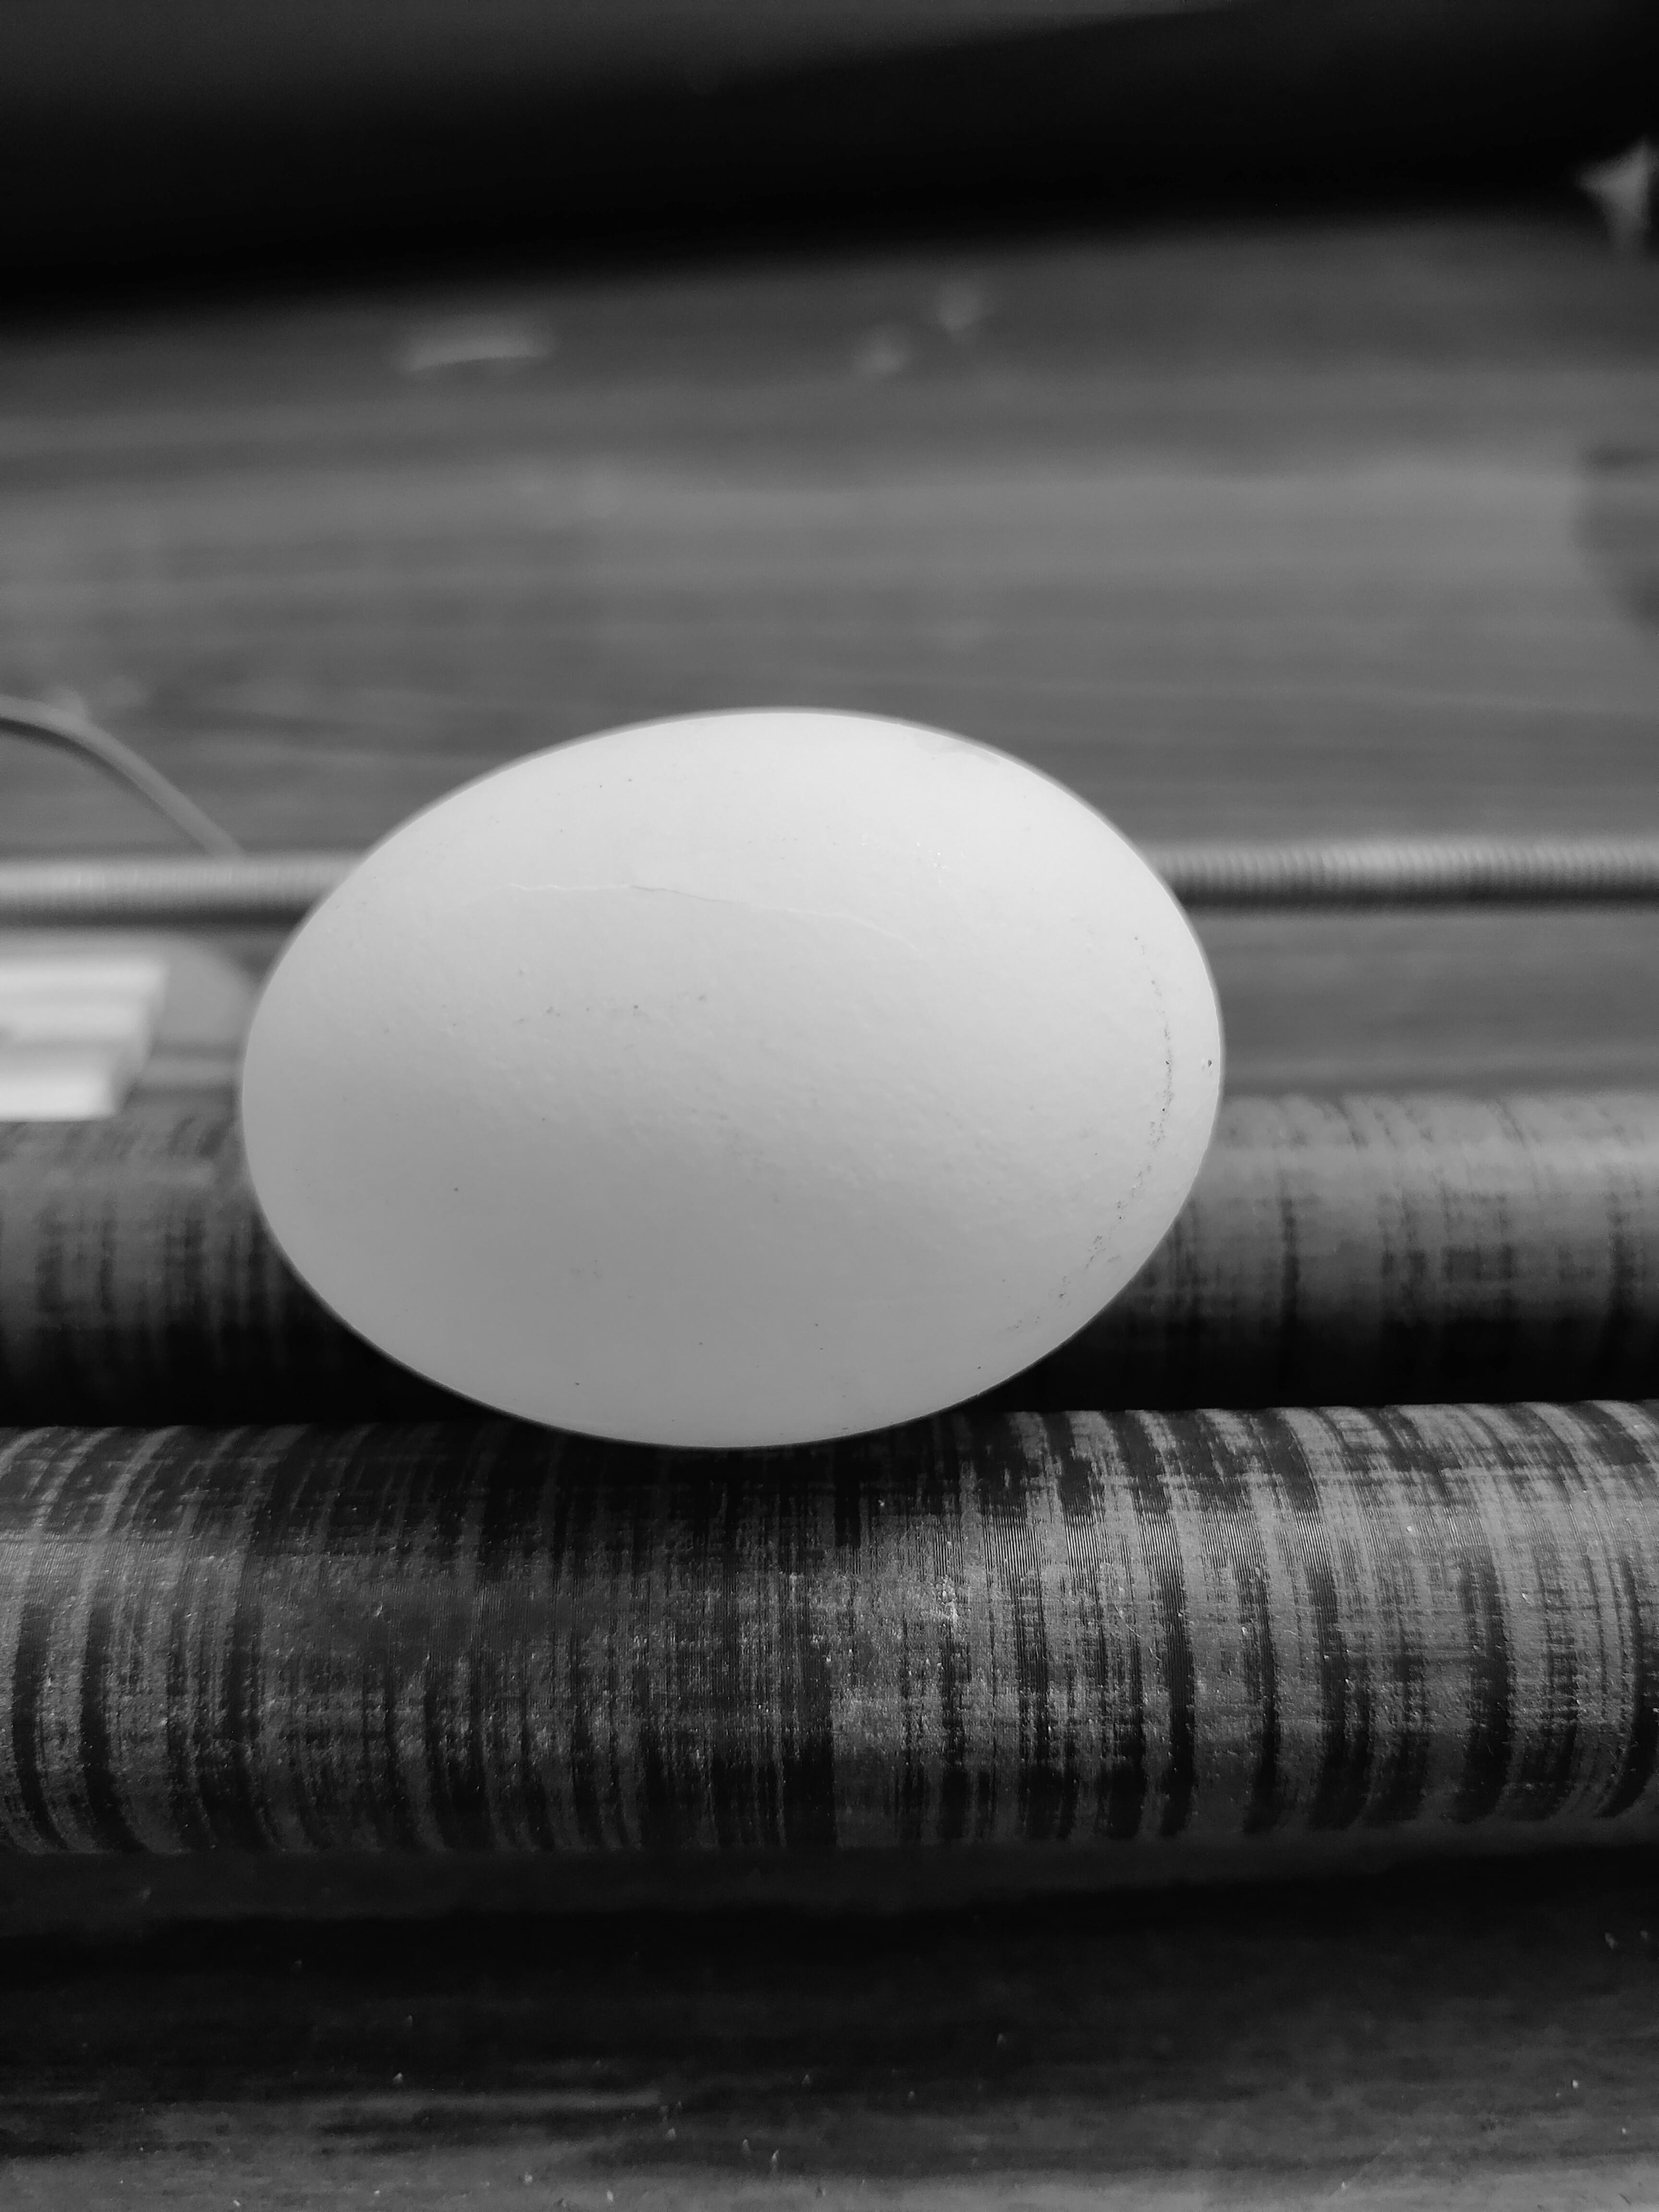telur: (202, 688, 1258, 1482)
